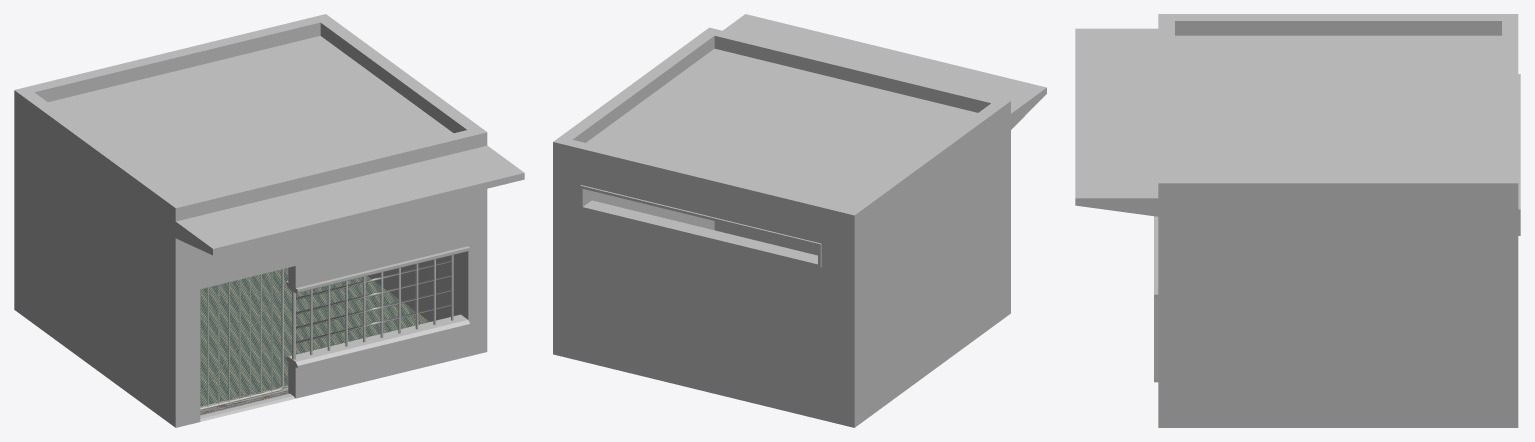
File: Cela_trinagulada.fbx
3 views of the same model, side by side, from view 1: azimuth 30°, elevation 25°; view 2: azimuth 150°, elevation 25°; view 3: azimuth 270°, elevation 25° (orthographic). The views are drawn at different scales.
Parts seen in each view (by area): view 1: Celas, Chao, Prisao, Portao, Trilho; view 2: Celas; view 3: Celas.
Part boxes in pixels (x1,y1,x2,y2): Celas: (14, 14, 524, 427); Chao: (200, 268, 429, 414); Prisao: (292, 255, 453, 359); Portao: (200, 269, 283, 410); Trilho: (200, 385, 288, 413); Celas: (553, 14, 1046, 427); Celas: (1075, 14, 1520, 427).
Bounding box in the file's own units: 490 × 330 × 544.
